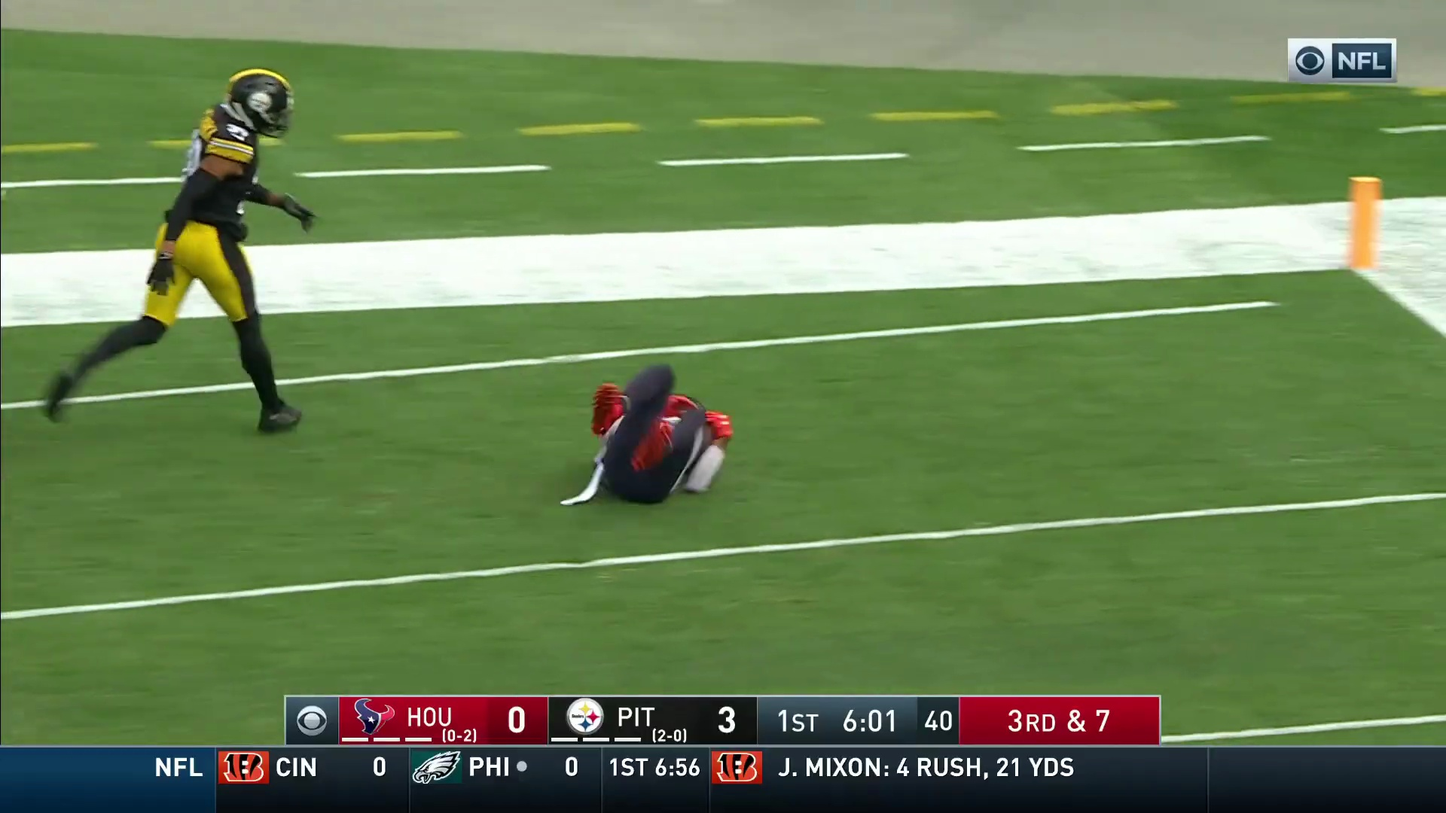Player: (593, 364, 731, 503)
